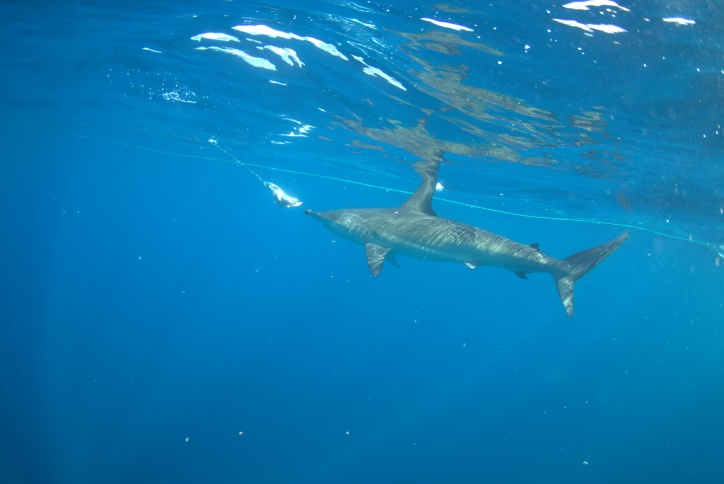Hammer: (279, 144, 644, 351)
